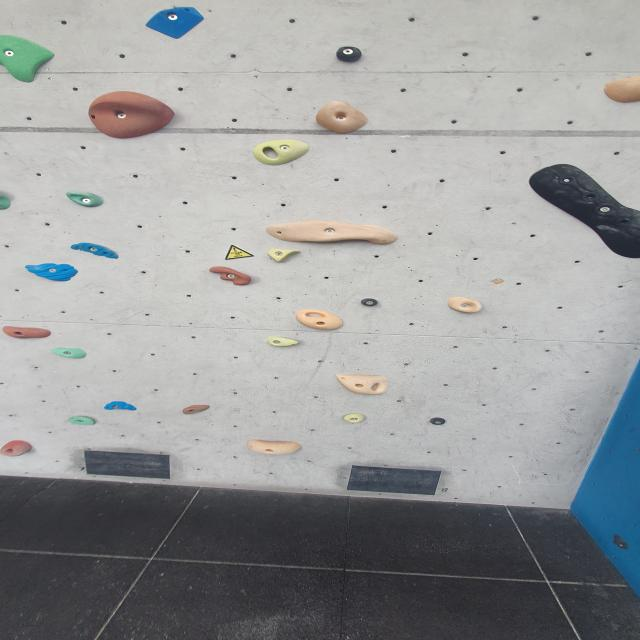Crimp: (0, 33, 60, 85), (22, 264, 79, 282), (247, 440, 305, 456), (70, 244, 120, 259), (1, 326, 54, 340), (262, 247, 304, 264), (264, 337, 301, 349), (104, 402, 140, 413), (180, 405, 210, 416)
Jug: (265, 220, 401, 247), (314, 102, 371, 134), (208, 266, 255, 286), (445, 296, 486, 316), (1, 442, 35, 458), (67, 415, 99, 426)
Pinch: (603, 76, 640, 104), (336, 49, 366, 65), (340, 413, 369, 423), (426, 416, 449, 426), (358, 297, 380, 306)
Pocket: (250, 138, 312, 166), (333, 375, 390, 397), (293, 310, 344, 332)
Sloper: (526, 162, 640, 262), (86, 93, 180, 140)
